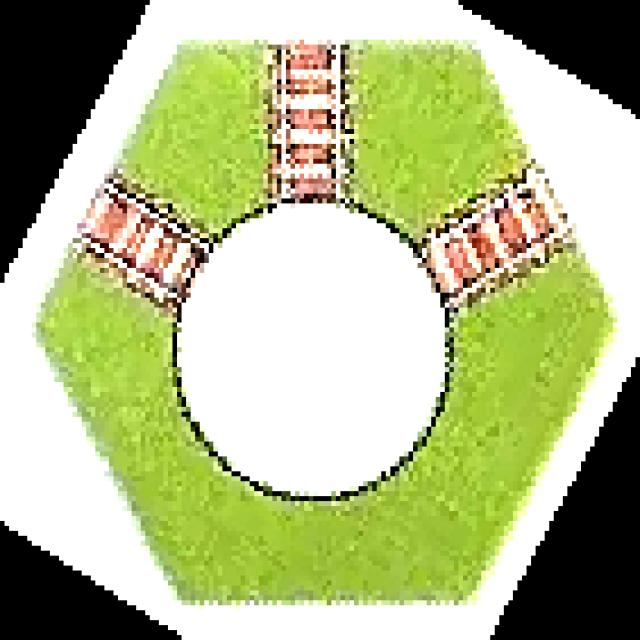12_4: (31, 40, 616, 608)
